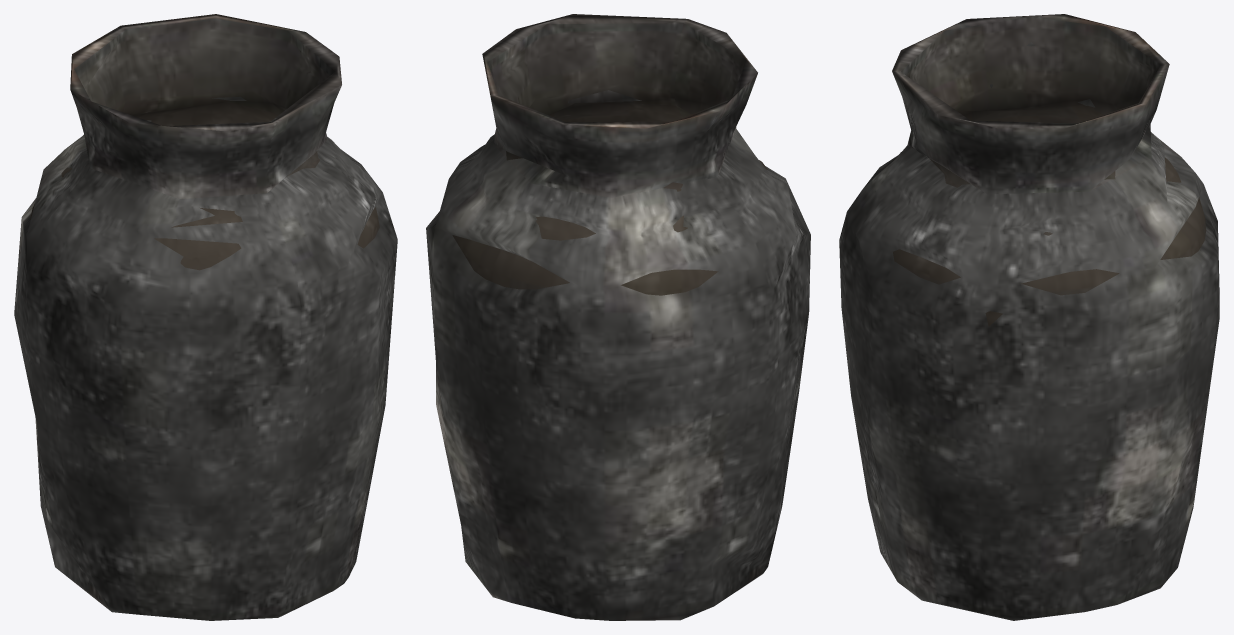
Rendered from ceramic_vase_02.glb.
3 renders of one model, left to right at view 1: azimuth 30°, elevation 25°; view 2: azimuth 150°, elevation 25°; view 3: azimuth 270°, elevation 25°, orthographic.
Parts seen in each view (by area): view 1: ceramic_vase_02; view 2: ceramic_vase_02; view 3: ceramic_vase_02.
Part boxes in pixels (x1,y1,x2,y2): ceramic_vase_02: [14, 14, 397, 620]; ceramic_vase_02: [426, 14, 810, 620]; ceramic_vase_02: [839, 14, 1219, 620].
Size of the model in its own units: 0.2098 by 0.3053 by 0.2155.
1 material, 1 textured.
